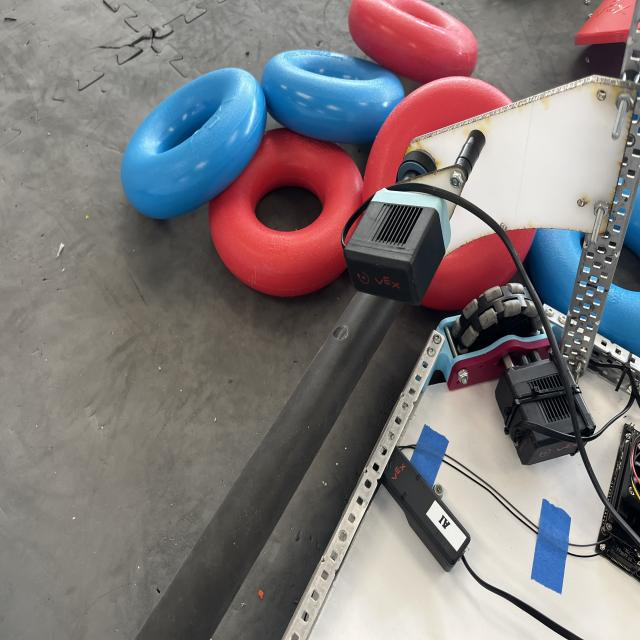Blue-Ring: (121, 68, 266, 218), (539, 171, 640, 349), (261, 50, 405, 143)
Red-Ring: (362, 78, 535, 306), (209, 128, 362, 297), (349, 0, 478, 83)
